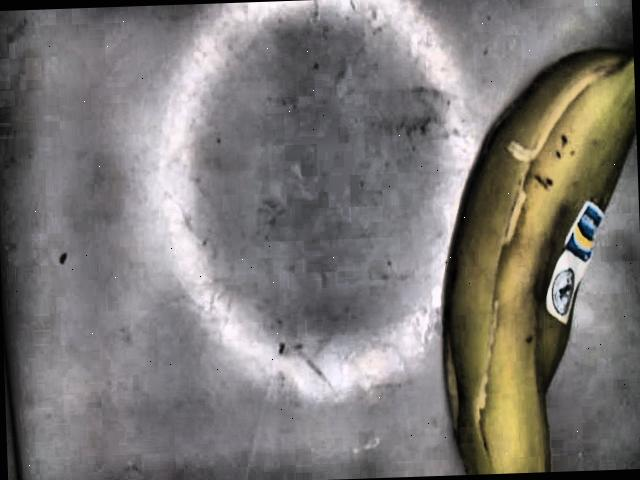Almennt: (438, 48, 637, 475)
